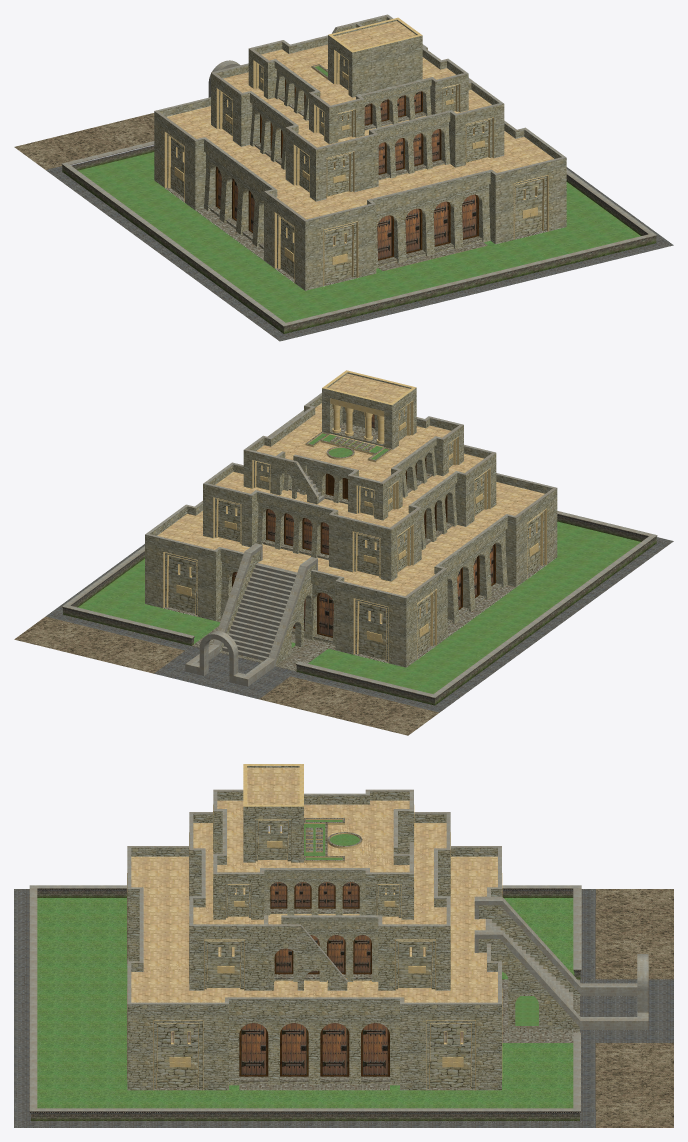
The picture shows the model from 3 angles, top to bottom: view 1: azimuth 30°, elevation 25°; view 2: azimuth 150°, elevation 25°; view 3: azimuth 270°, elevation 25°; orthographic projection. The views are drawn at different scales.
Parts seen in each view (by area): view 1: Material2 (×27), Material3 (×18); view 2: Material2 (×29), Material3 (×12); view 3: Material2 (×39), Material3 (×14).
Boxes of the visible parts, box(x1,y1,x2,y2) form: Material2 (×27): box(14, 14, 673, 341); Material3 (×18): box(62, 21, 656, 333); Material2 (×29): box(14, 393, 673, 735); Material3 (×12): box(215, 373, 656, 705); Material2 (×39): box(14, 789, 673, 1127); Material3 (×14): box(189, 764, 446, 1085).
Size of the model in its own units: 10.41 by 4.57 by 12.16.
Materials: 25 (23 with a texture image).
